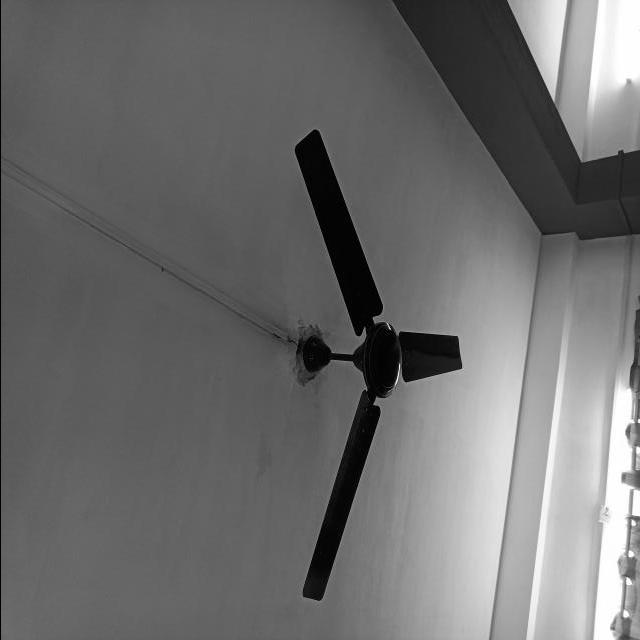fan: (291, 129, 461, 602)
